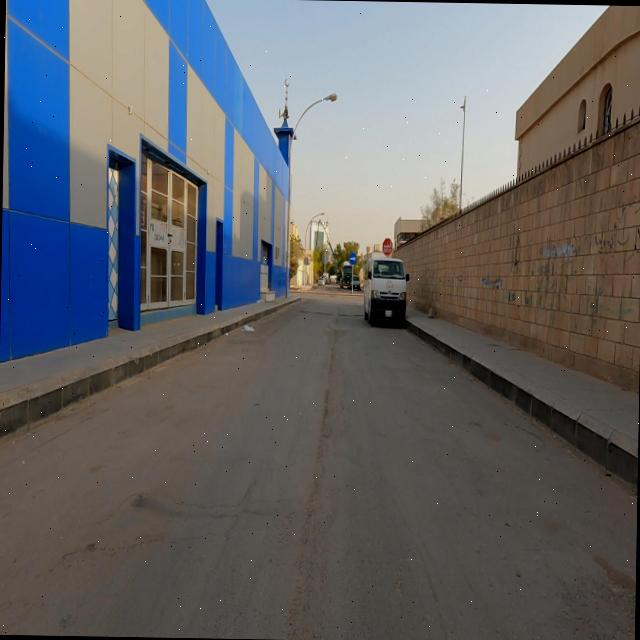Graffiti: (506, 281, 640, 316), (592, 180, 640, 262), (531, 234, 582, 283), (506, 239, 525, 277), (482, 276, 504, 291)
